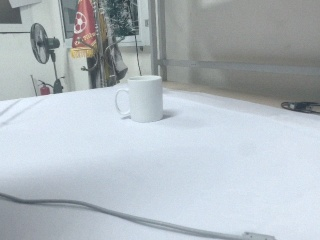cup: (115, 75, 164, 123)
